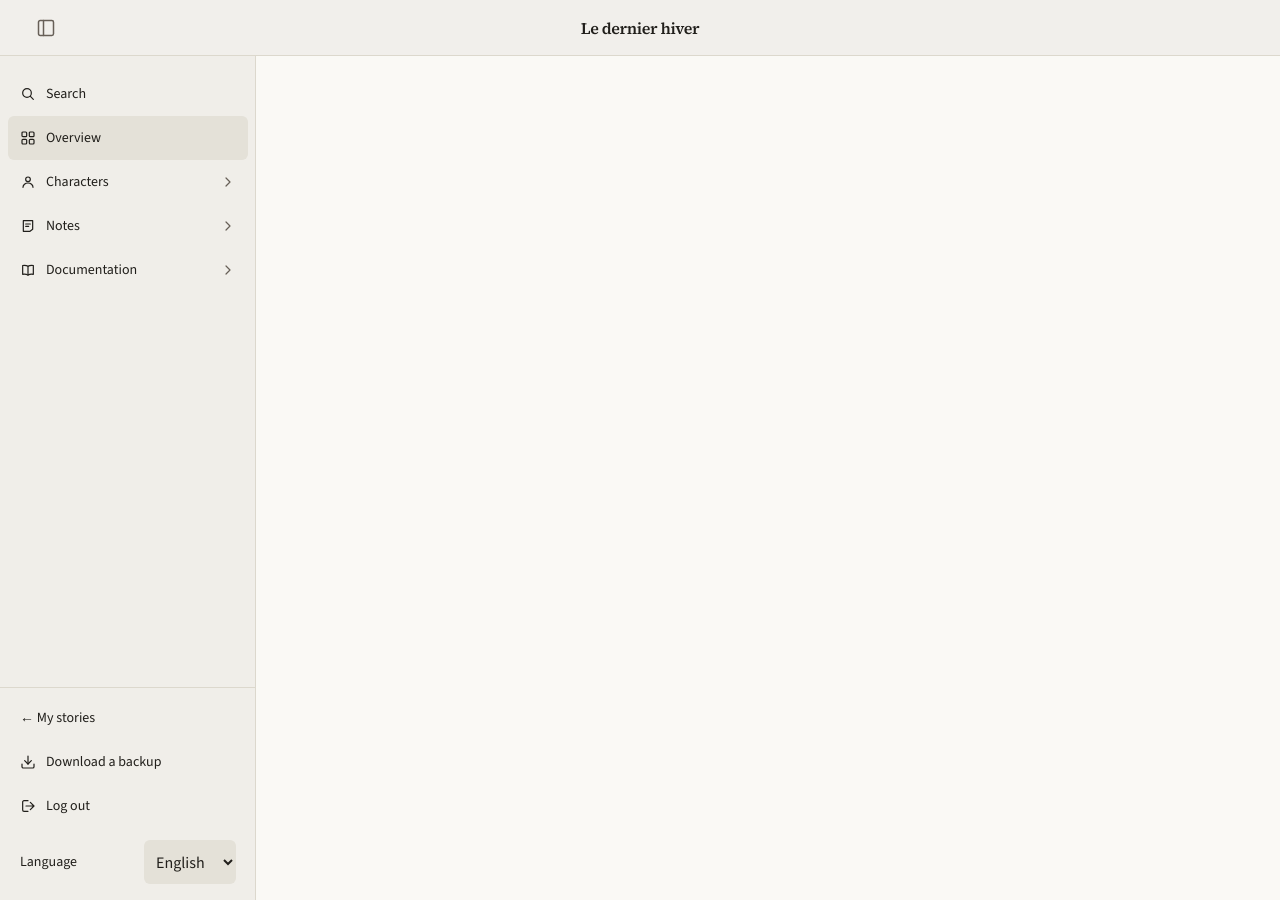
StoryPresentationEditPage › updates the title bar live as the title is edited, with no duplicate heading in the body
Type " Suite" into the field with test id "story-title".
click(640, 28); type(" Suite")  # box [80,6,1200,50]
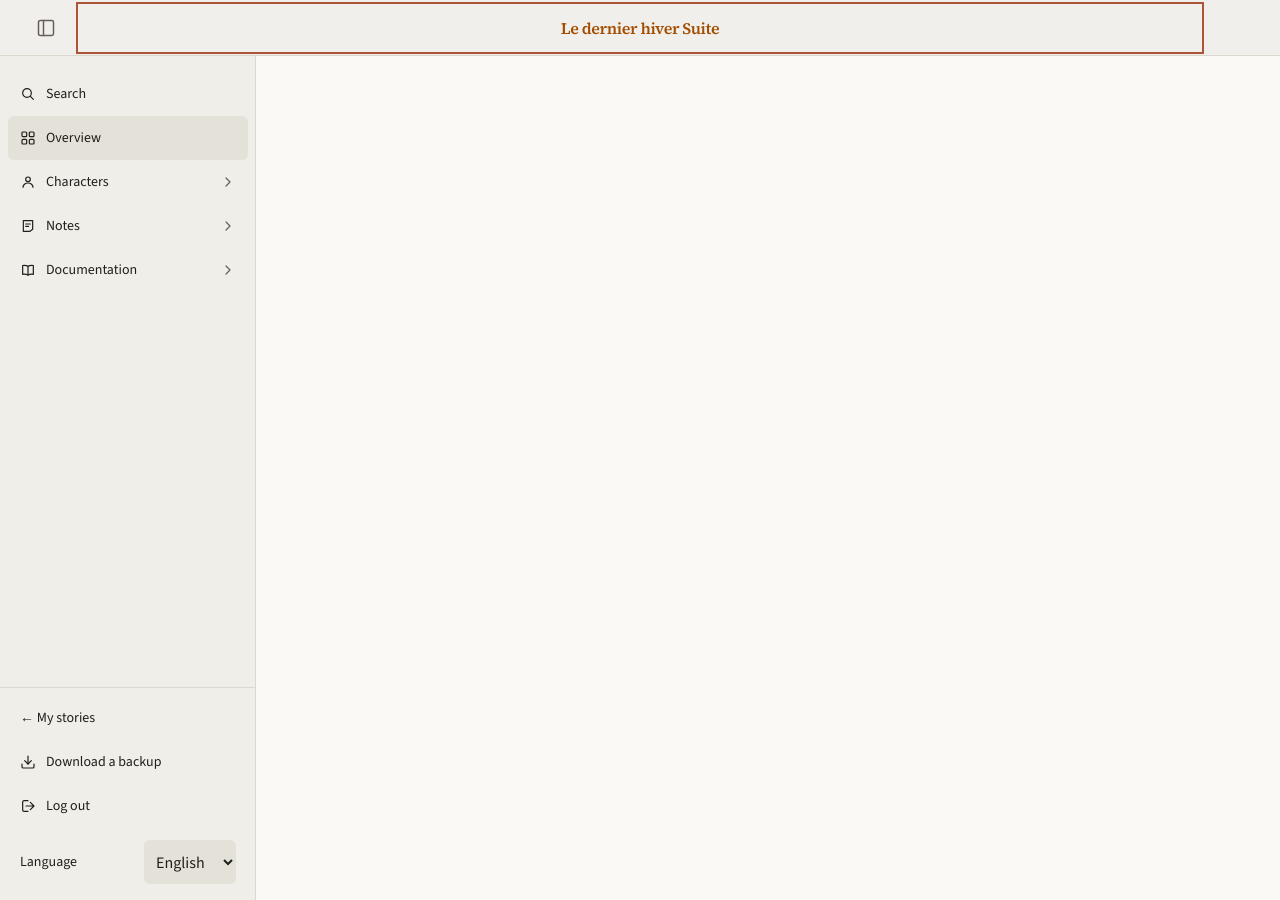
Now the field with test id "story-title" holds "Le dernier hiver Suite", box [80,6,1200,50]
